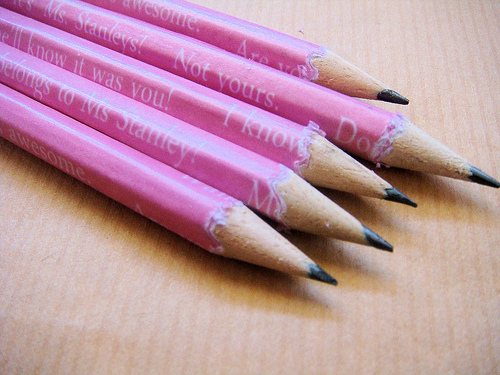pen_tip: (185, 196, 340, 311), (306, 39, 429, 119)
